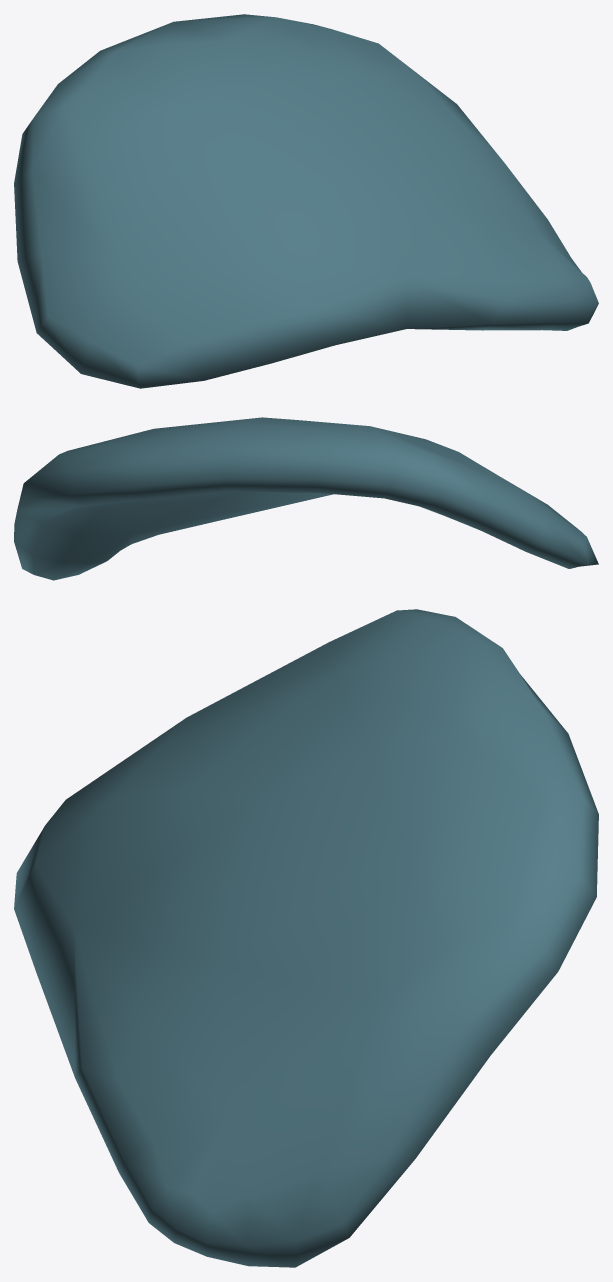
File: Extensor_digitorum_longus_&_brevis_on_2d_middle_phalanx.l_Gener.glb
3 views of the same model, one above another, from view 1: azimuth 30°, elevation 25°; view 2: azimuth 150°, elevation 25°; view 3: azimuth 270°, elevation 25° (orthographic). The views are drawn at different scales.
Visible parts, largest first — view 1: Extensor_digitorum_longus_&_brevis_on_2d_middle_phalanx.l_Ge; view 2: Extensor_digitorum_longus_&_brevis_on_2d_middle_phalanx.l_Ge; view 3: Extensor_digitorum_longus_&_brevis_on_2d_middle_phalanx.l_Ge.
Part boxes in pixels (x1,y1,x2,y2): Extensor_digitorum_longus_&_brevis_on_2d_middle_phalanx.l_Ge: (14, 14, 598, 388); Extensor_digitorum_longus_&_brevis_on_2d_middle_phalanx.l_Ge: (14, 417, 598, 580); Extensor_digitorum_longus_&_brevis_on_2d_middle_phalanx.l_Ge: (14, 609, 598, 1267).
Bounding box in the file's own units: 0.00513 × 0.00252 × 0.00345.
